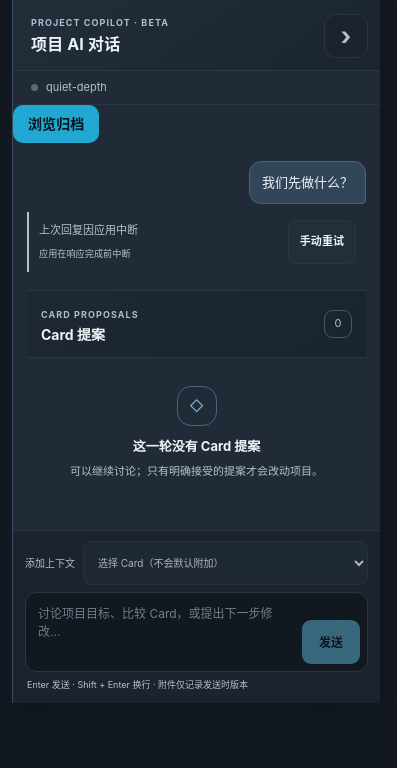
Test: ProjectConversationDrawer › 失败、取消或中断的最后一轮提供手动重试
What coordinates should you click on to do the following:
click the button "手动重试"
I would click on:
 (322, 242)
Its box is [288, 220, 356, 264].
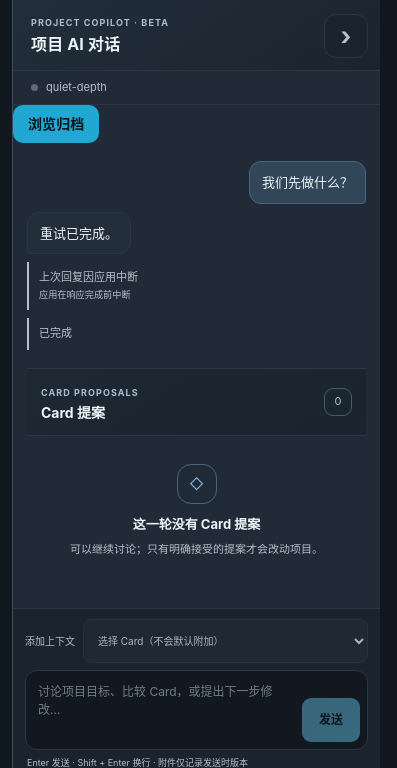
expect the text "重试已完成。" is shown: met, box [40, 223, 118, 243]
expect the text "已完成" is shown: met, box [39, 326, 72, 340]
expect the button "手动重试" is gone: met
